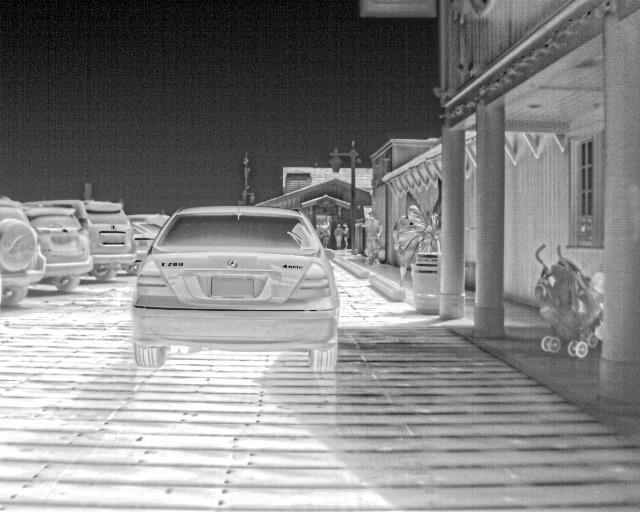bicycle: (128, 202, 341, 375), (21, 198, 135, 282), (26, 208, 94, 292), (0, 197, 40, 310), (126, 212, 172, 227), (133, 223, 150, 262), (132, 221, 158, 239)
empty: (392, 204, 422, 286), (361, 209, 383, 261), (333, 221, 346, 251), (337, 221, 350, 250)
